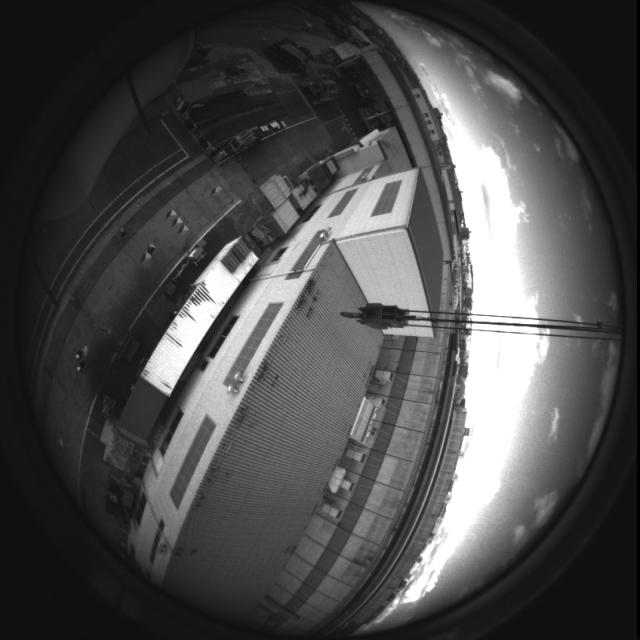rope: (329, 301, 636, 346)
